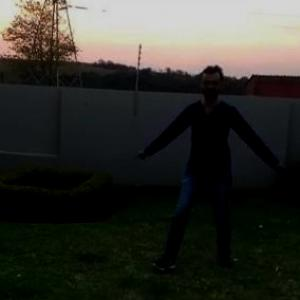land: (160, 75, 266, 231)
